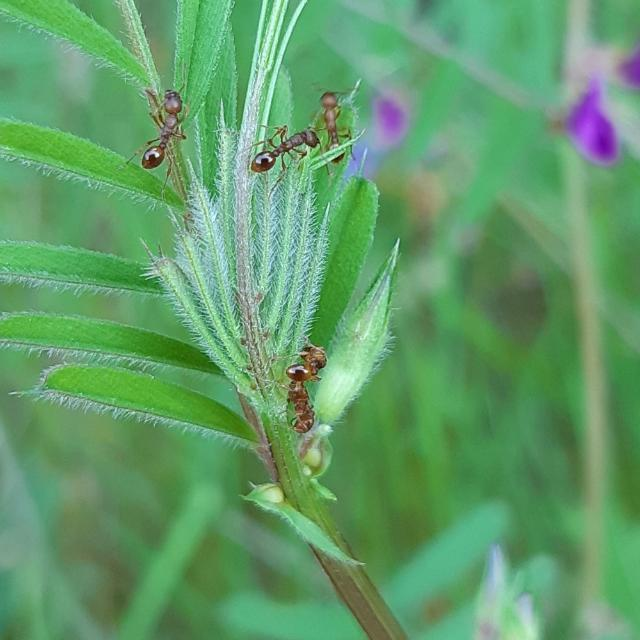Myrmica: (125, 74, 202, 190), (241, 112, 329, 188), (299, 78, 369, 168), (285, 336, 345, 390), (274, 356, 318, 426)
